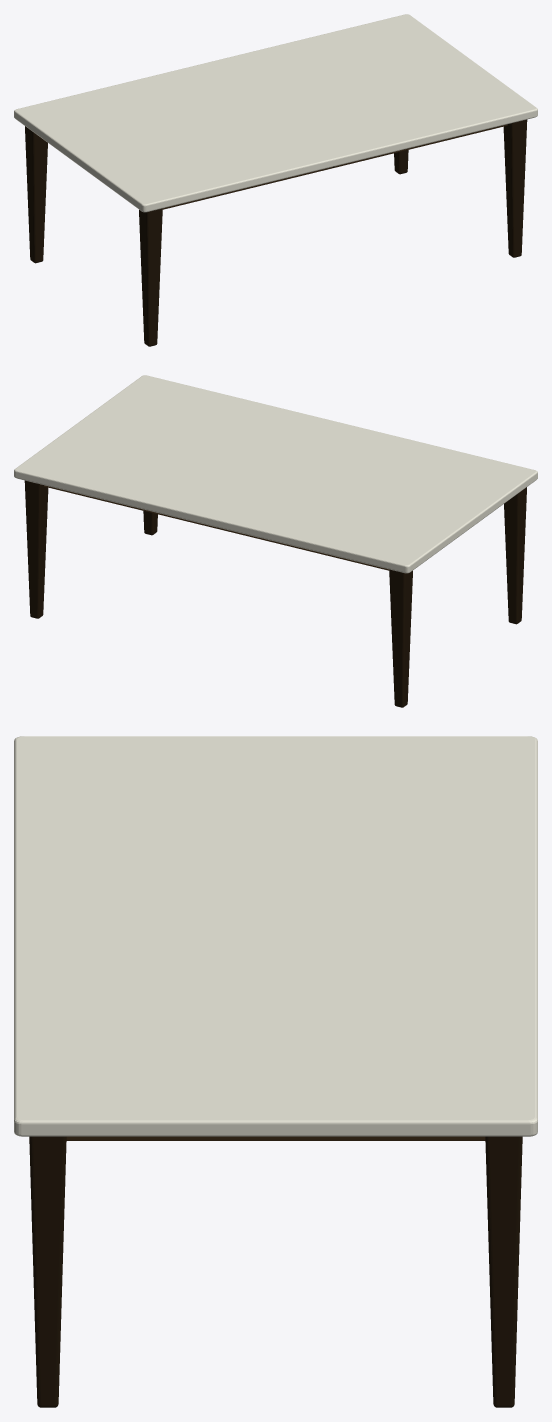
The model's file is mesa.fbx.
The picture shows the model from 3 angles, top to bottom: view 1: azimuth 30°, elevation 25°; view 2: azimuth 150°, elevation 25°; view 3: azimuth 270°, elevation 25°; orthographic projection. The views are drawn at different scales.
Visible parts, largest first — view 1: Cube; view 2: Cube; view 3: Cube.
Boxes of the visible parts, x1,y1,x2,y2 form: Cube: [14, 14, 537, 346]; Cube: [14, 375, 537, 707]; Cube: [14, 736, 537, 1407].
Size of the model in its own units: 203 by 72.96 by 116.
